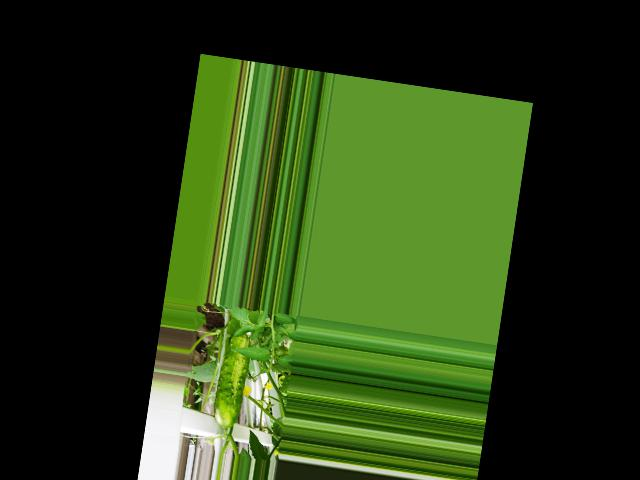cucumber: (210, 331, 251, 430)
